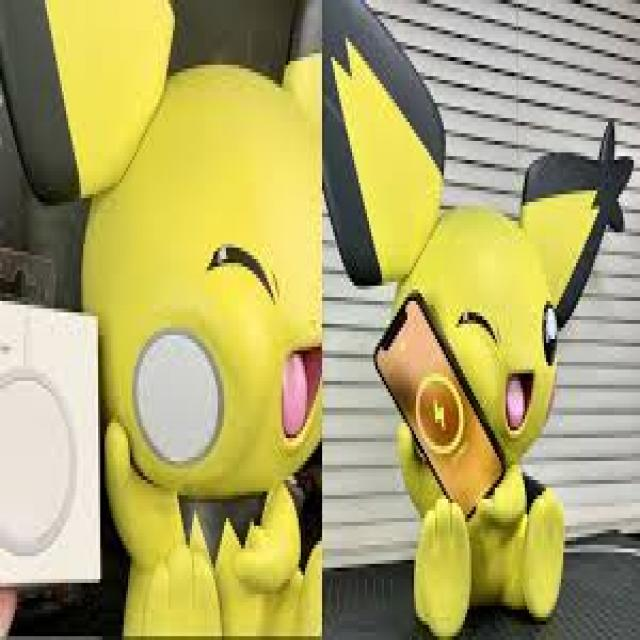pichu: (2, 0, 344, 622), (331, 5, 640, 640)
